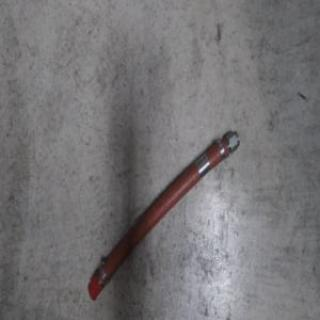Hosetrack_idkeyframe: (84, 127, 240, 304)
